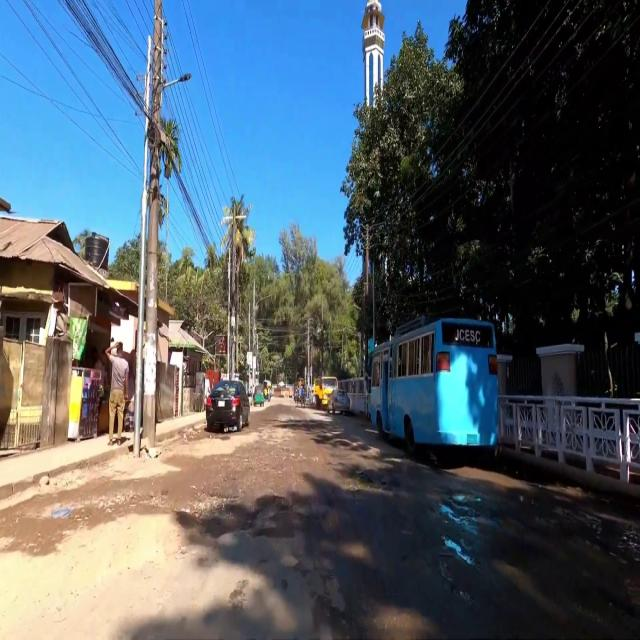black: (202, 379, 255, 439)
